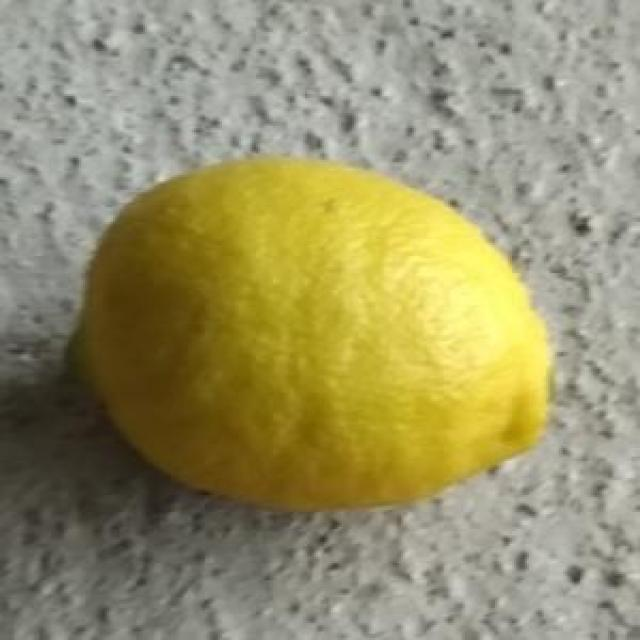lemon: (69, 151, 554, 514)
